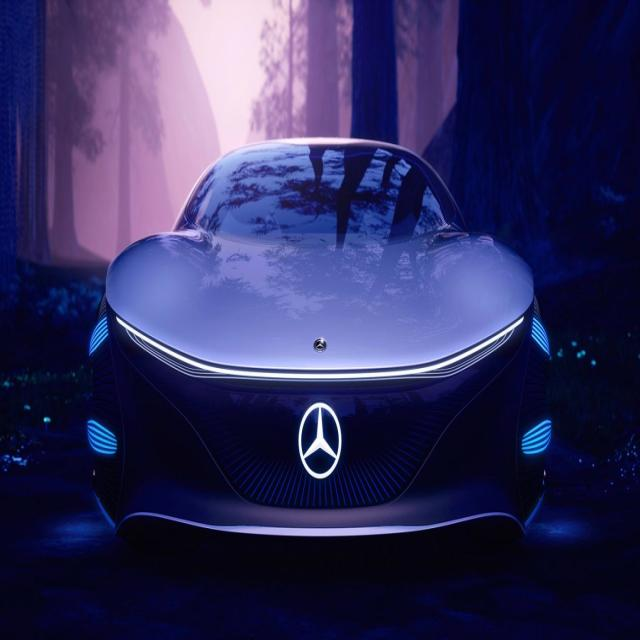car: (79, 116, 562, 576)
